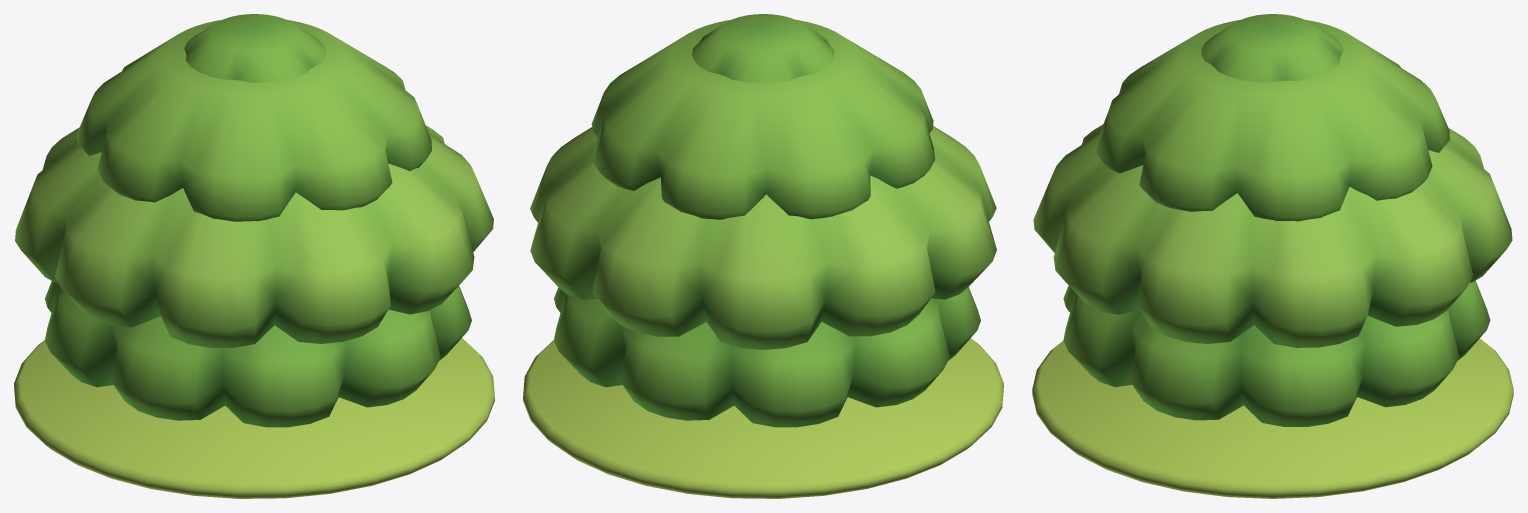
The model's file is bush-round.glb.
3 renders of one model, left to right at view 1: azimuth 30°, elevation 25°; view 2: azimuth 150°, elevation 25°; view 3: azimuth 270°, elevation 25°, orthographic.
Parts seen in each view (by area): view 1: body, base_disc; view 2: body, base_disc; view 3: body, base_disc.
Boxes of the visible parts, left/top/right/bottom form: body: left=15, top=14, right=493, bottom=427; base_disc: left=14, top=338, right=494, bottom=498; body: left=530, top=14, right=996, bottom=427; base_disc: left=523, top=338, right=1003, bottom=498; body: left=1033, top=14, right=1512, bottom=426; base_disc: left=1032, top=338, right=1513, bottom=498.
Bounding box in the file's own units: 1.24 × 1.07 × 1.24.
